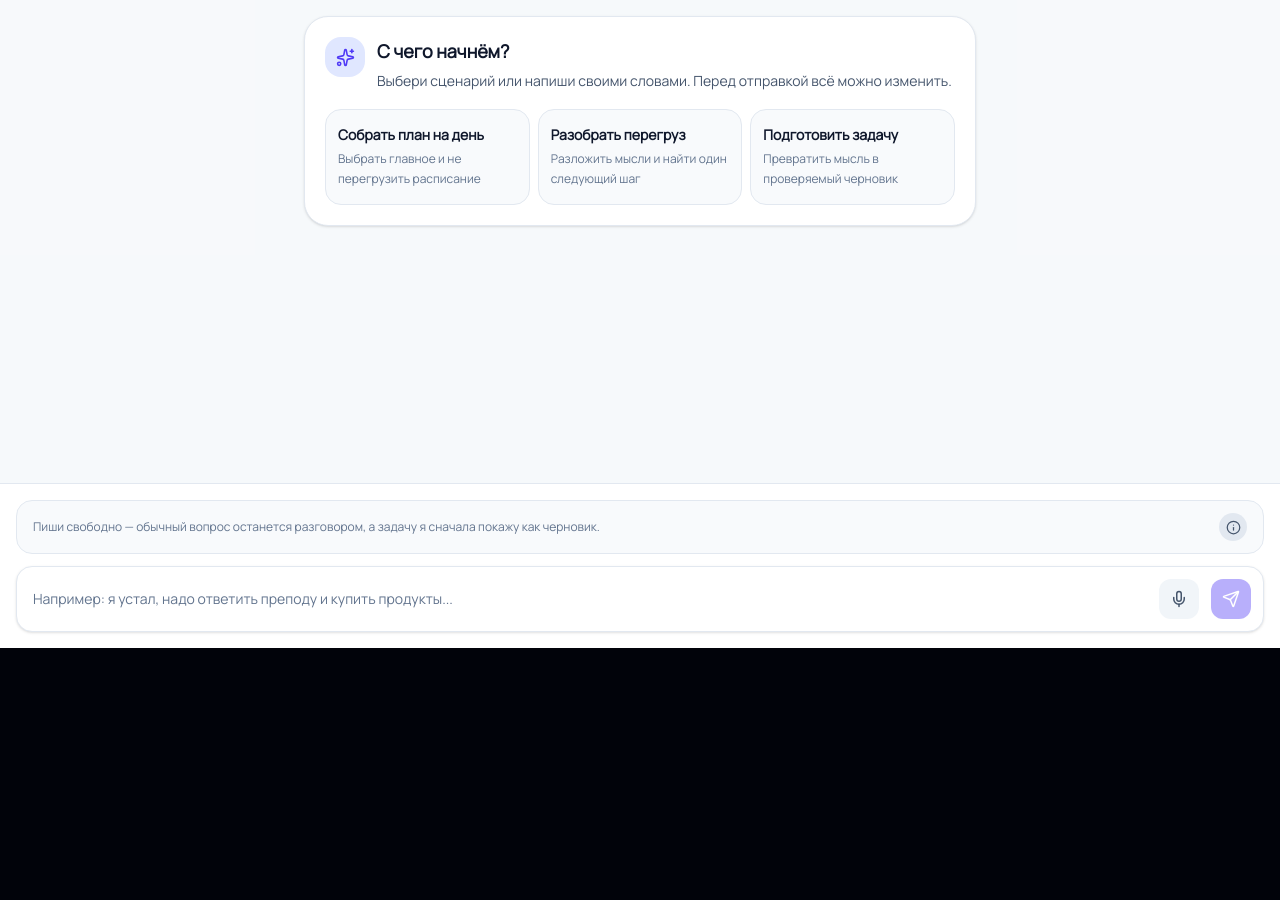
Scenario: MindHubChat › shows a calm error without changing tasks
The width and height of the screenshot is (1280, 900).
Replace the text in the text box with placeholder "Например:" with "Помоги разобрать мысль": (588, 599) [29, 579, 1147, 619]
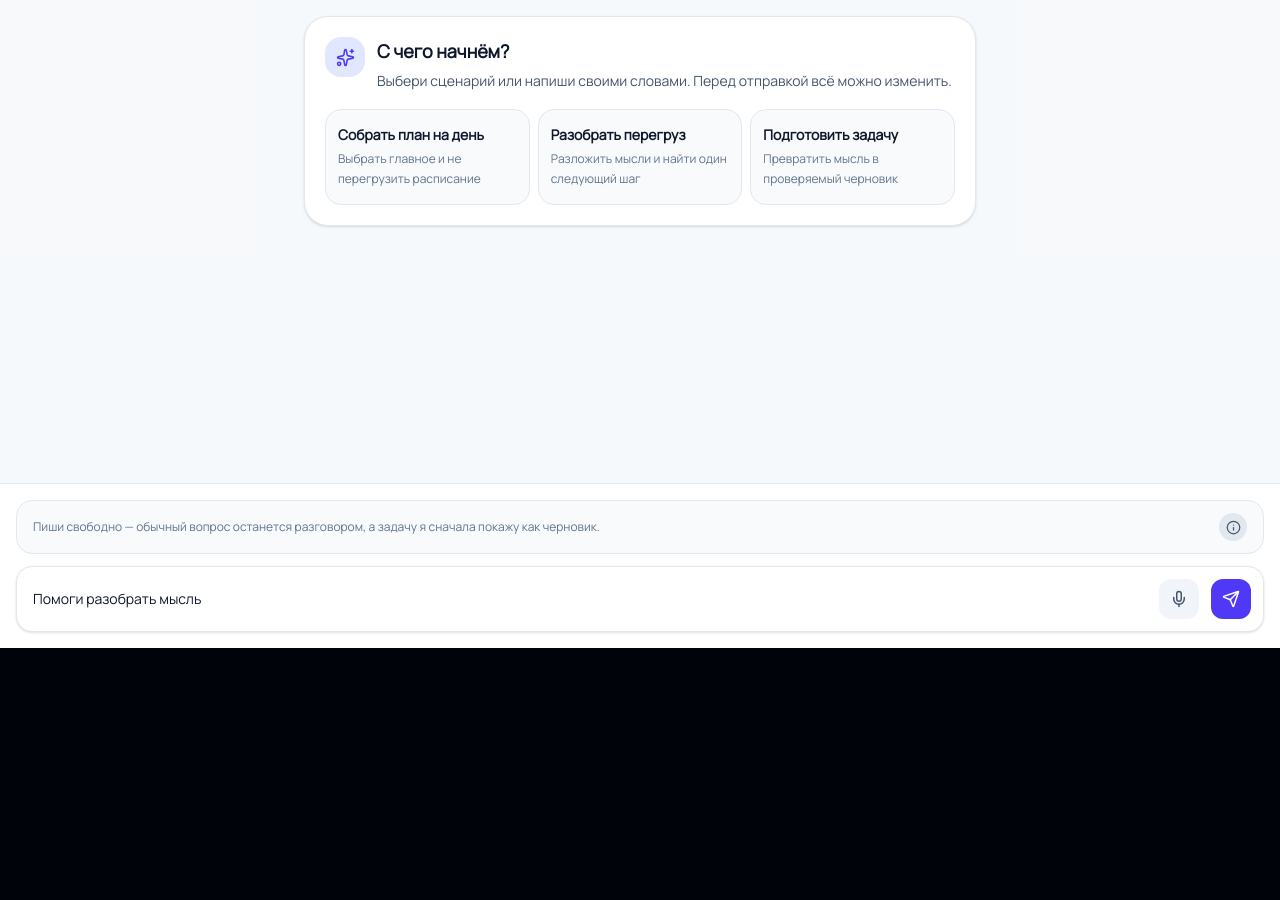
Click the button named "Отправить мысли": (1231, 599) [1211, 579, 1251, 619]
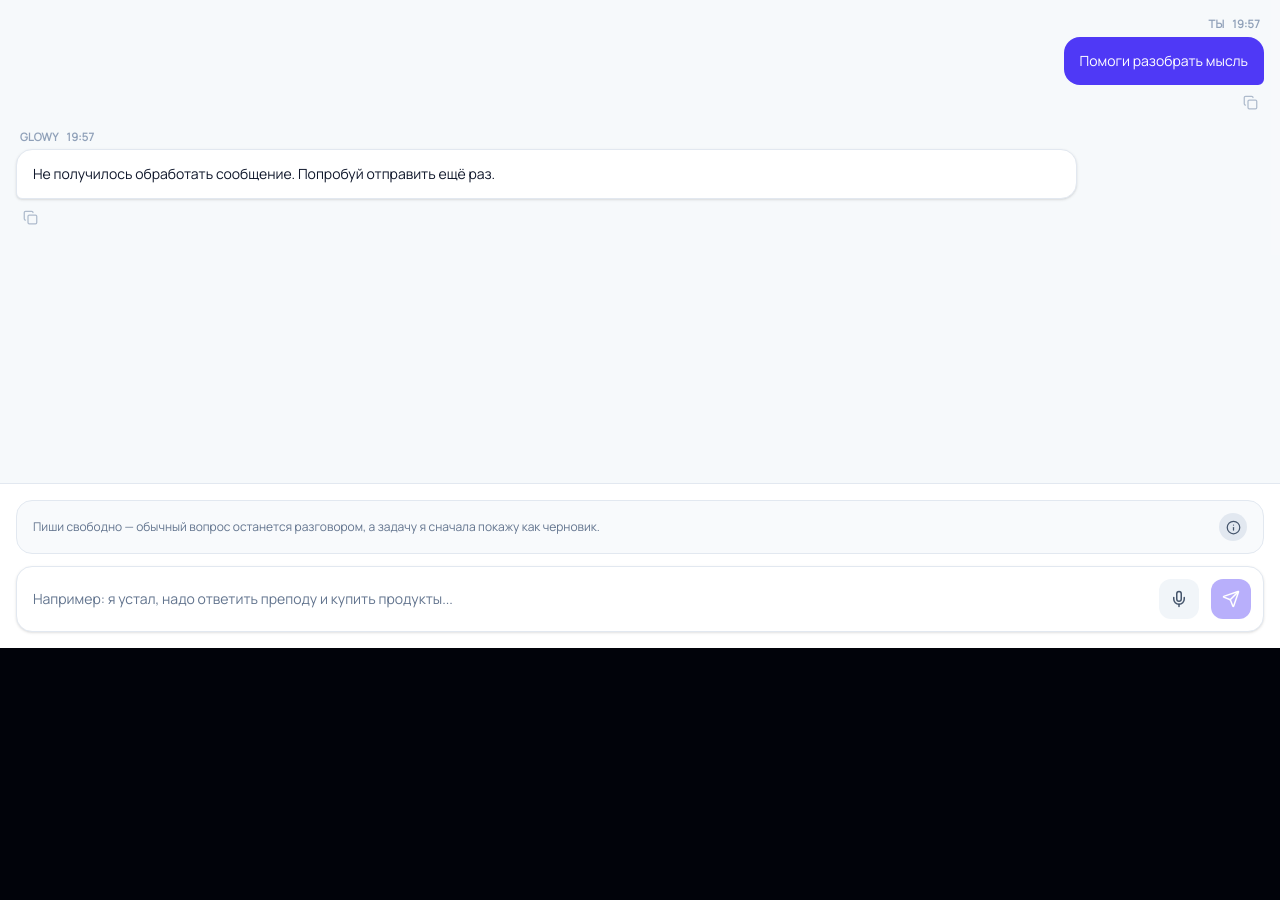
Now the text "Не получилось обработать сообщение. Попробуй отправить ещё раз." is shown, box [33, 164, 495, 183]
